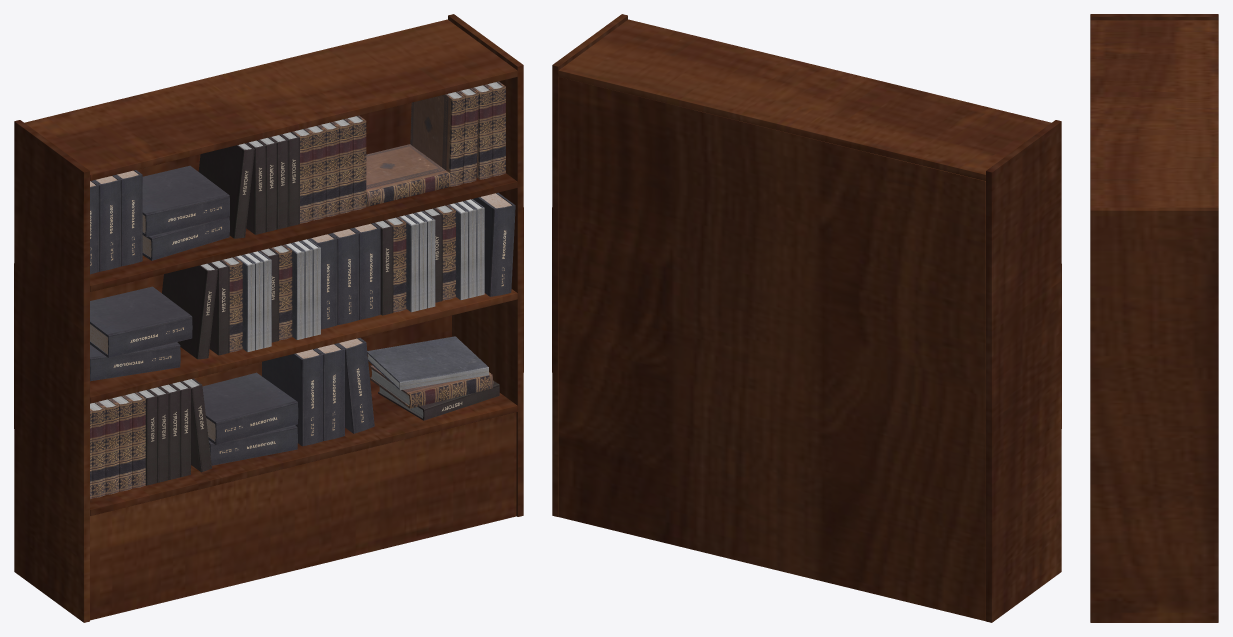
The model's file is 图书馆书架2.fbx.
3 views of the same model, side by side, from view 1: azimuth 30°, elevation 25°; view 2: azimuth 150°, elevation 25°; view 3: azimuth 270°, elevation 25° (orthographic). The views are drawn at different scales.
Visible parts, largest first — view 1: book_shelf.Shape_Books_0.003; view 2: book_shelf.Shape_Books_0.003; view 3: book_shelf.Shape_Books_0.003.
Part boxes in pixels (x1,y1,x2,y2): book_shelf.Shape_Books_0.003: (14, 14, 523, 622); book_shelf.Shape_Books_0.003: (552, 14, 1061, 622); book_shelf.Shape_Books_0.003: (1090, 14, 1218, 622).
Size of the model in its own units: 612 by 599 by 169.
Materials: 2 (2 with a texture image).
